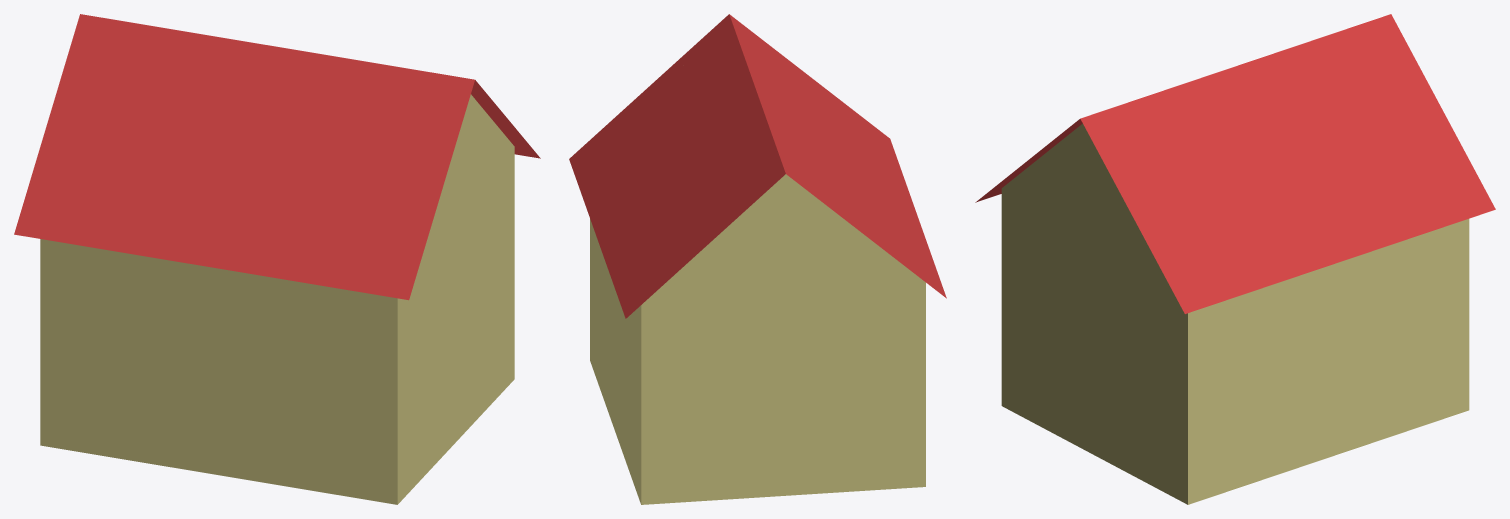
The picture shows the model from 3 angles, left to right: view 1: azimuth 30°, elevation 25°; view 2: azimuth 150°, elevation 25°; view 3: azimuth 270°, elevation 25°; orthographic projection. The views are drawn at different scales.
Size of the model in its own units: 20.13 by 20.51 by 14.86.
